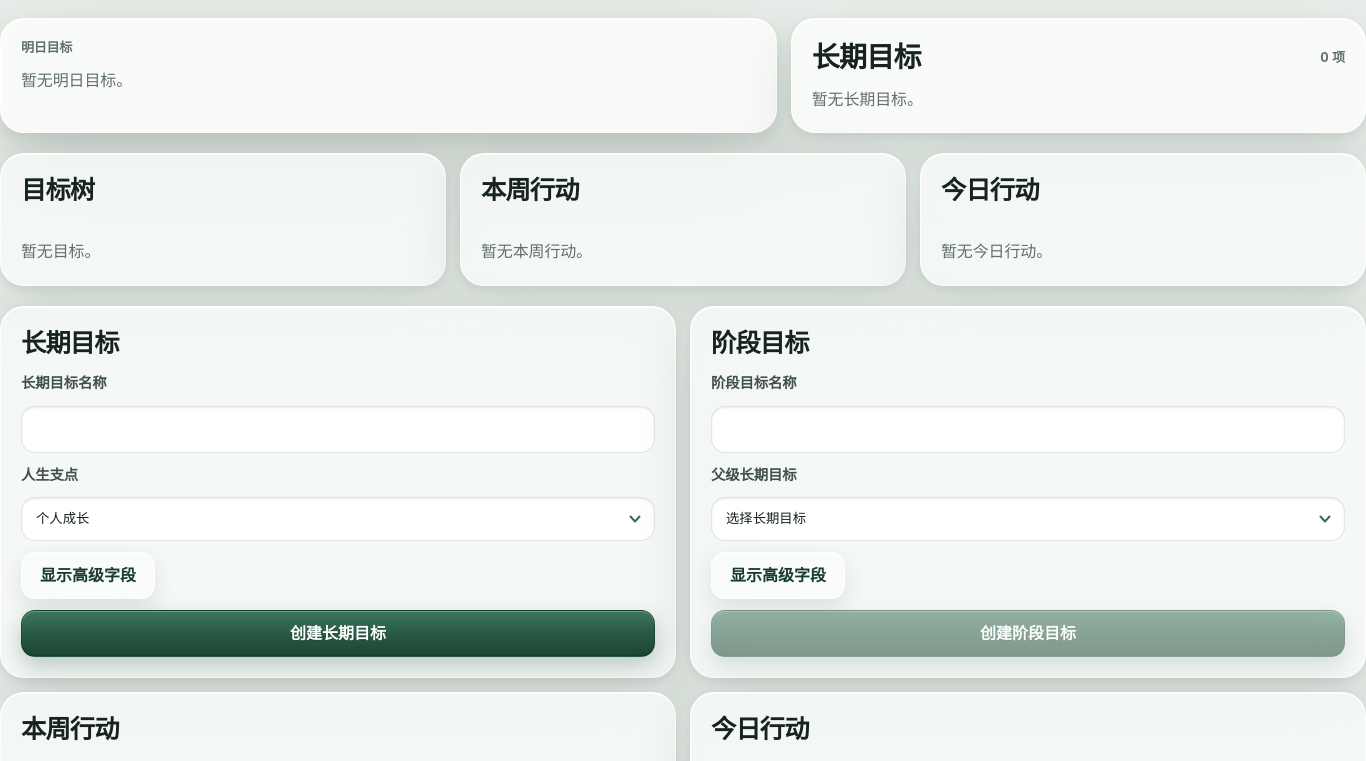
Scenario: PlanningWorkspace › keeps the editor draft after a 409 conflict without replaying it automatically
This screenshot has width=1366, height=761.
Type "需要保留的草稿" into the field labelled "长期目标名称". click: (338, 429)
box: [21,406,655,453]
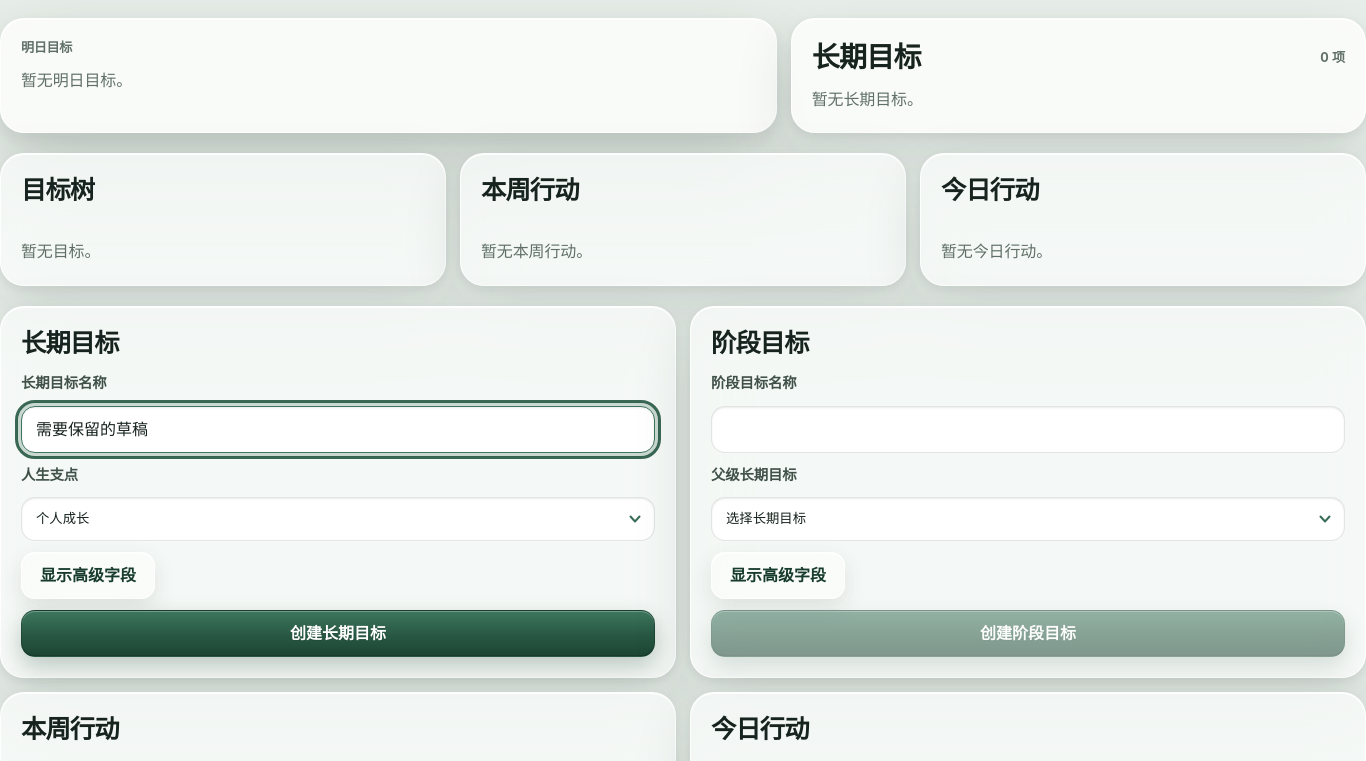
Click the button "创建长期目标". click: (338, 633)
box: [21,610,655,656]
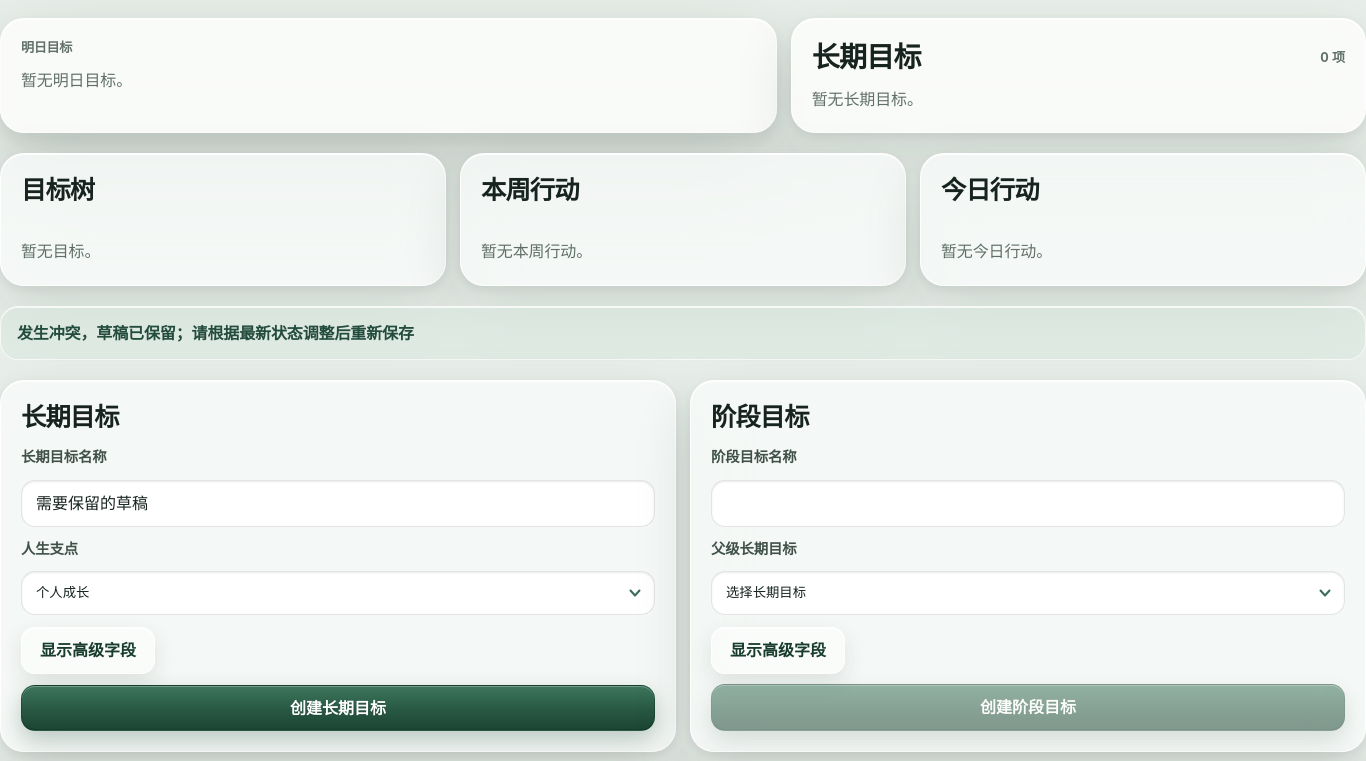
expect the text "发生冲突，草稿已保留；请根据最新状态调整后重新保存" is shown: met, box [0,306,1365,360]
